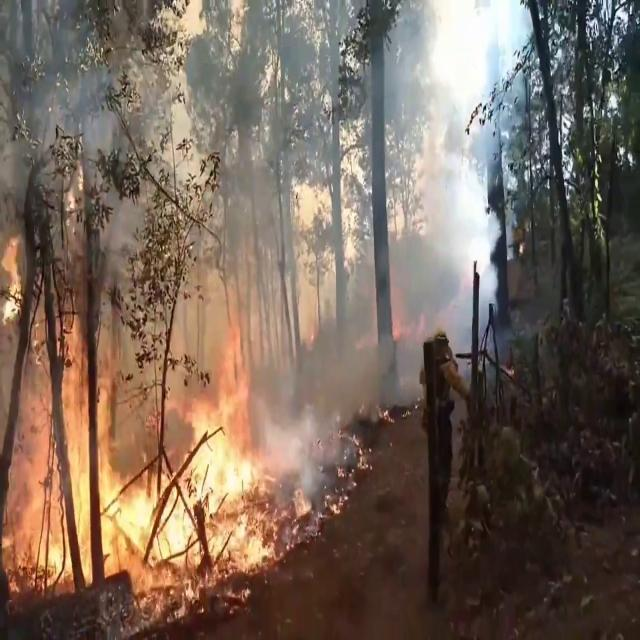Fire: (5, 321, 296, 606)
Smoke: (1, 1, 506, 355), (262, 244, 422, 463)
